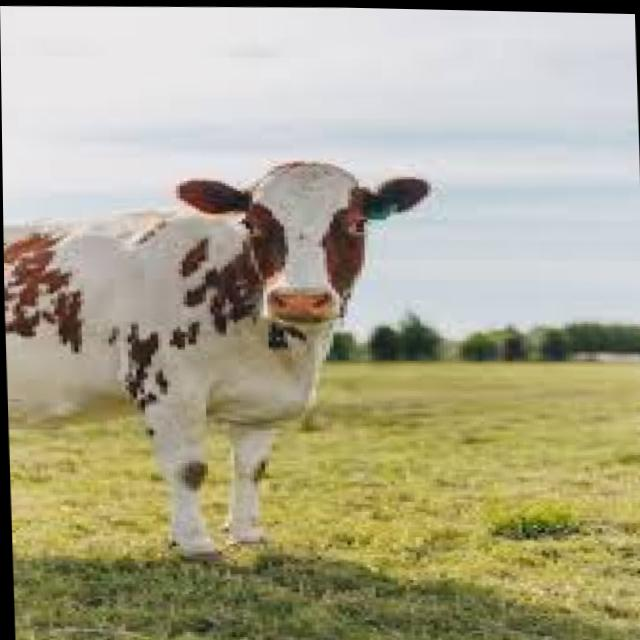cowFace: (135, 103, 461, 351)
